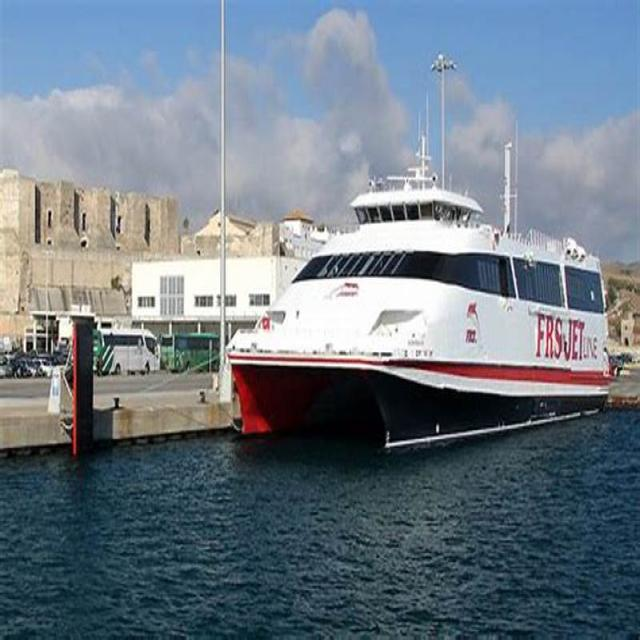passenger ship: (233, 164, 614, 425)
